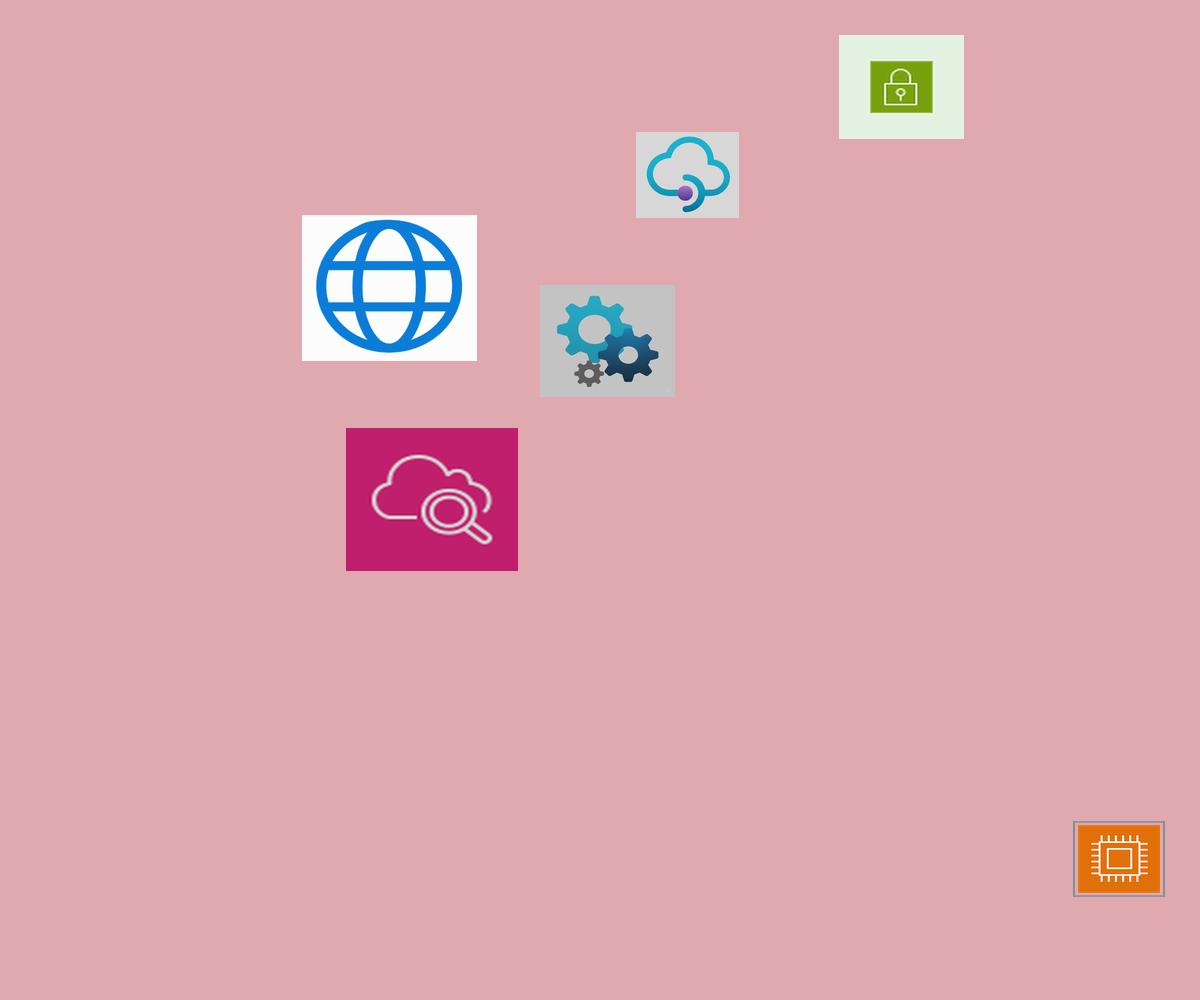AWS-Category_Compute: (1073, 821, 1165, 897)
AWS-CloudWatch: (346, 428, 518, 571)
AWS-Public-subnet: (839, 35, 964, 139)
Azure_api: (540, 285, 675, 397)
Azure_api_gateway: (636, 132, 739, 218)
Azure_http: (302, 215, 477, 361)
